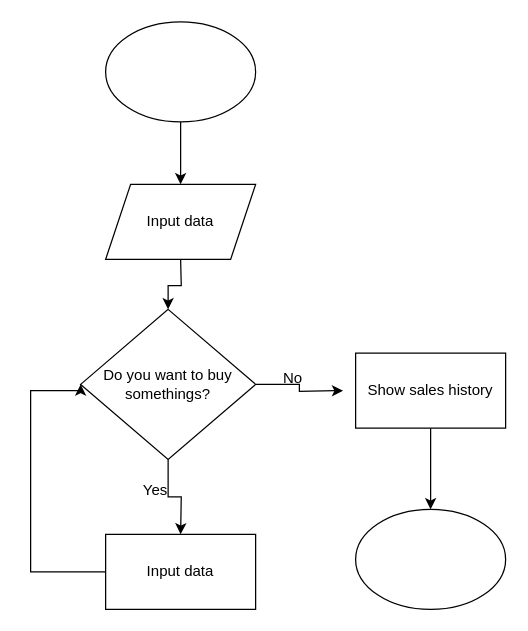
The diagram is 528 pixels wide and 631 high, and some of its shapes have lost their labels. Each missing label, with the centre of its shape:
"END" belongs at [430,558].
"START" belongs at [180,71].
